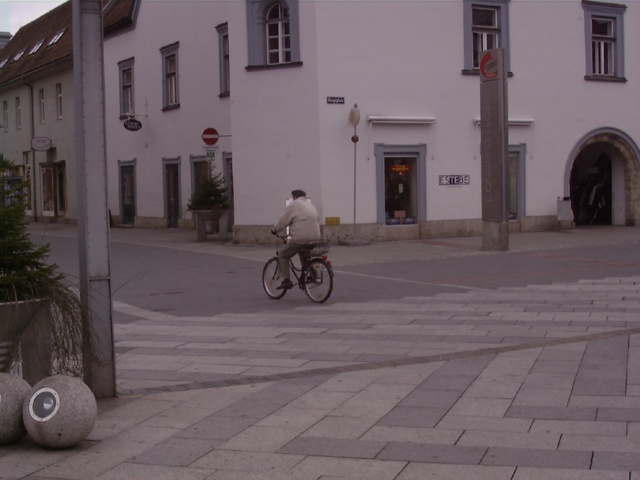person: (281, 185, 321, 301)
